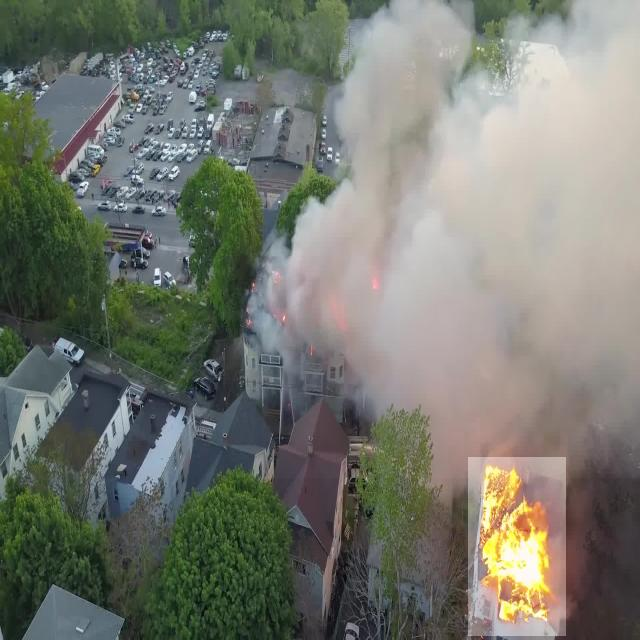Fire: (468, 457, 566, 636)
Smoke: (262, 2, 640, 478)
